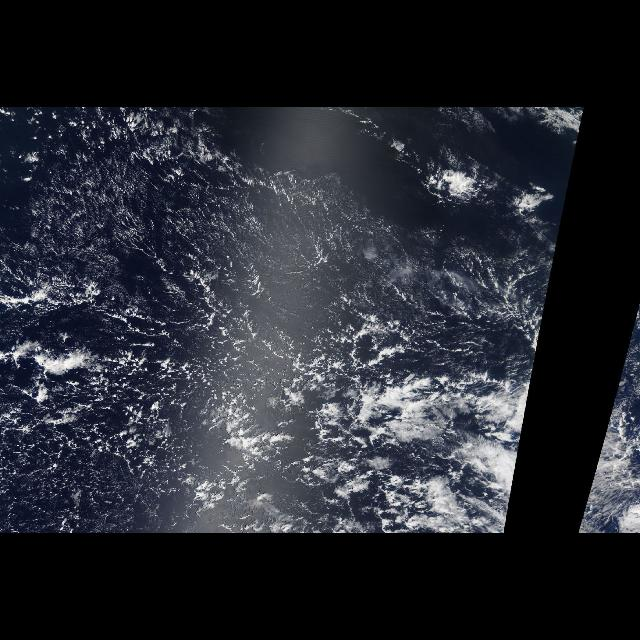Gravel: (0, 109, 430, 533)
Sugar: (5, 110, 438, 326)
